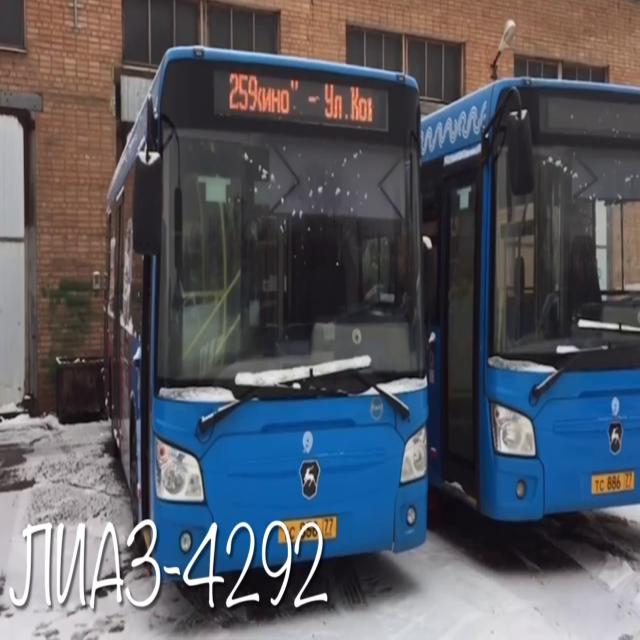bus: (102, 40, 436, 611), (424, 33, 640, 602)
